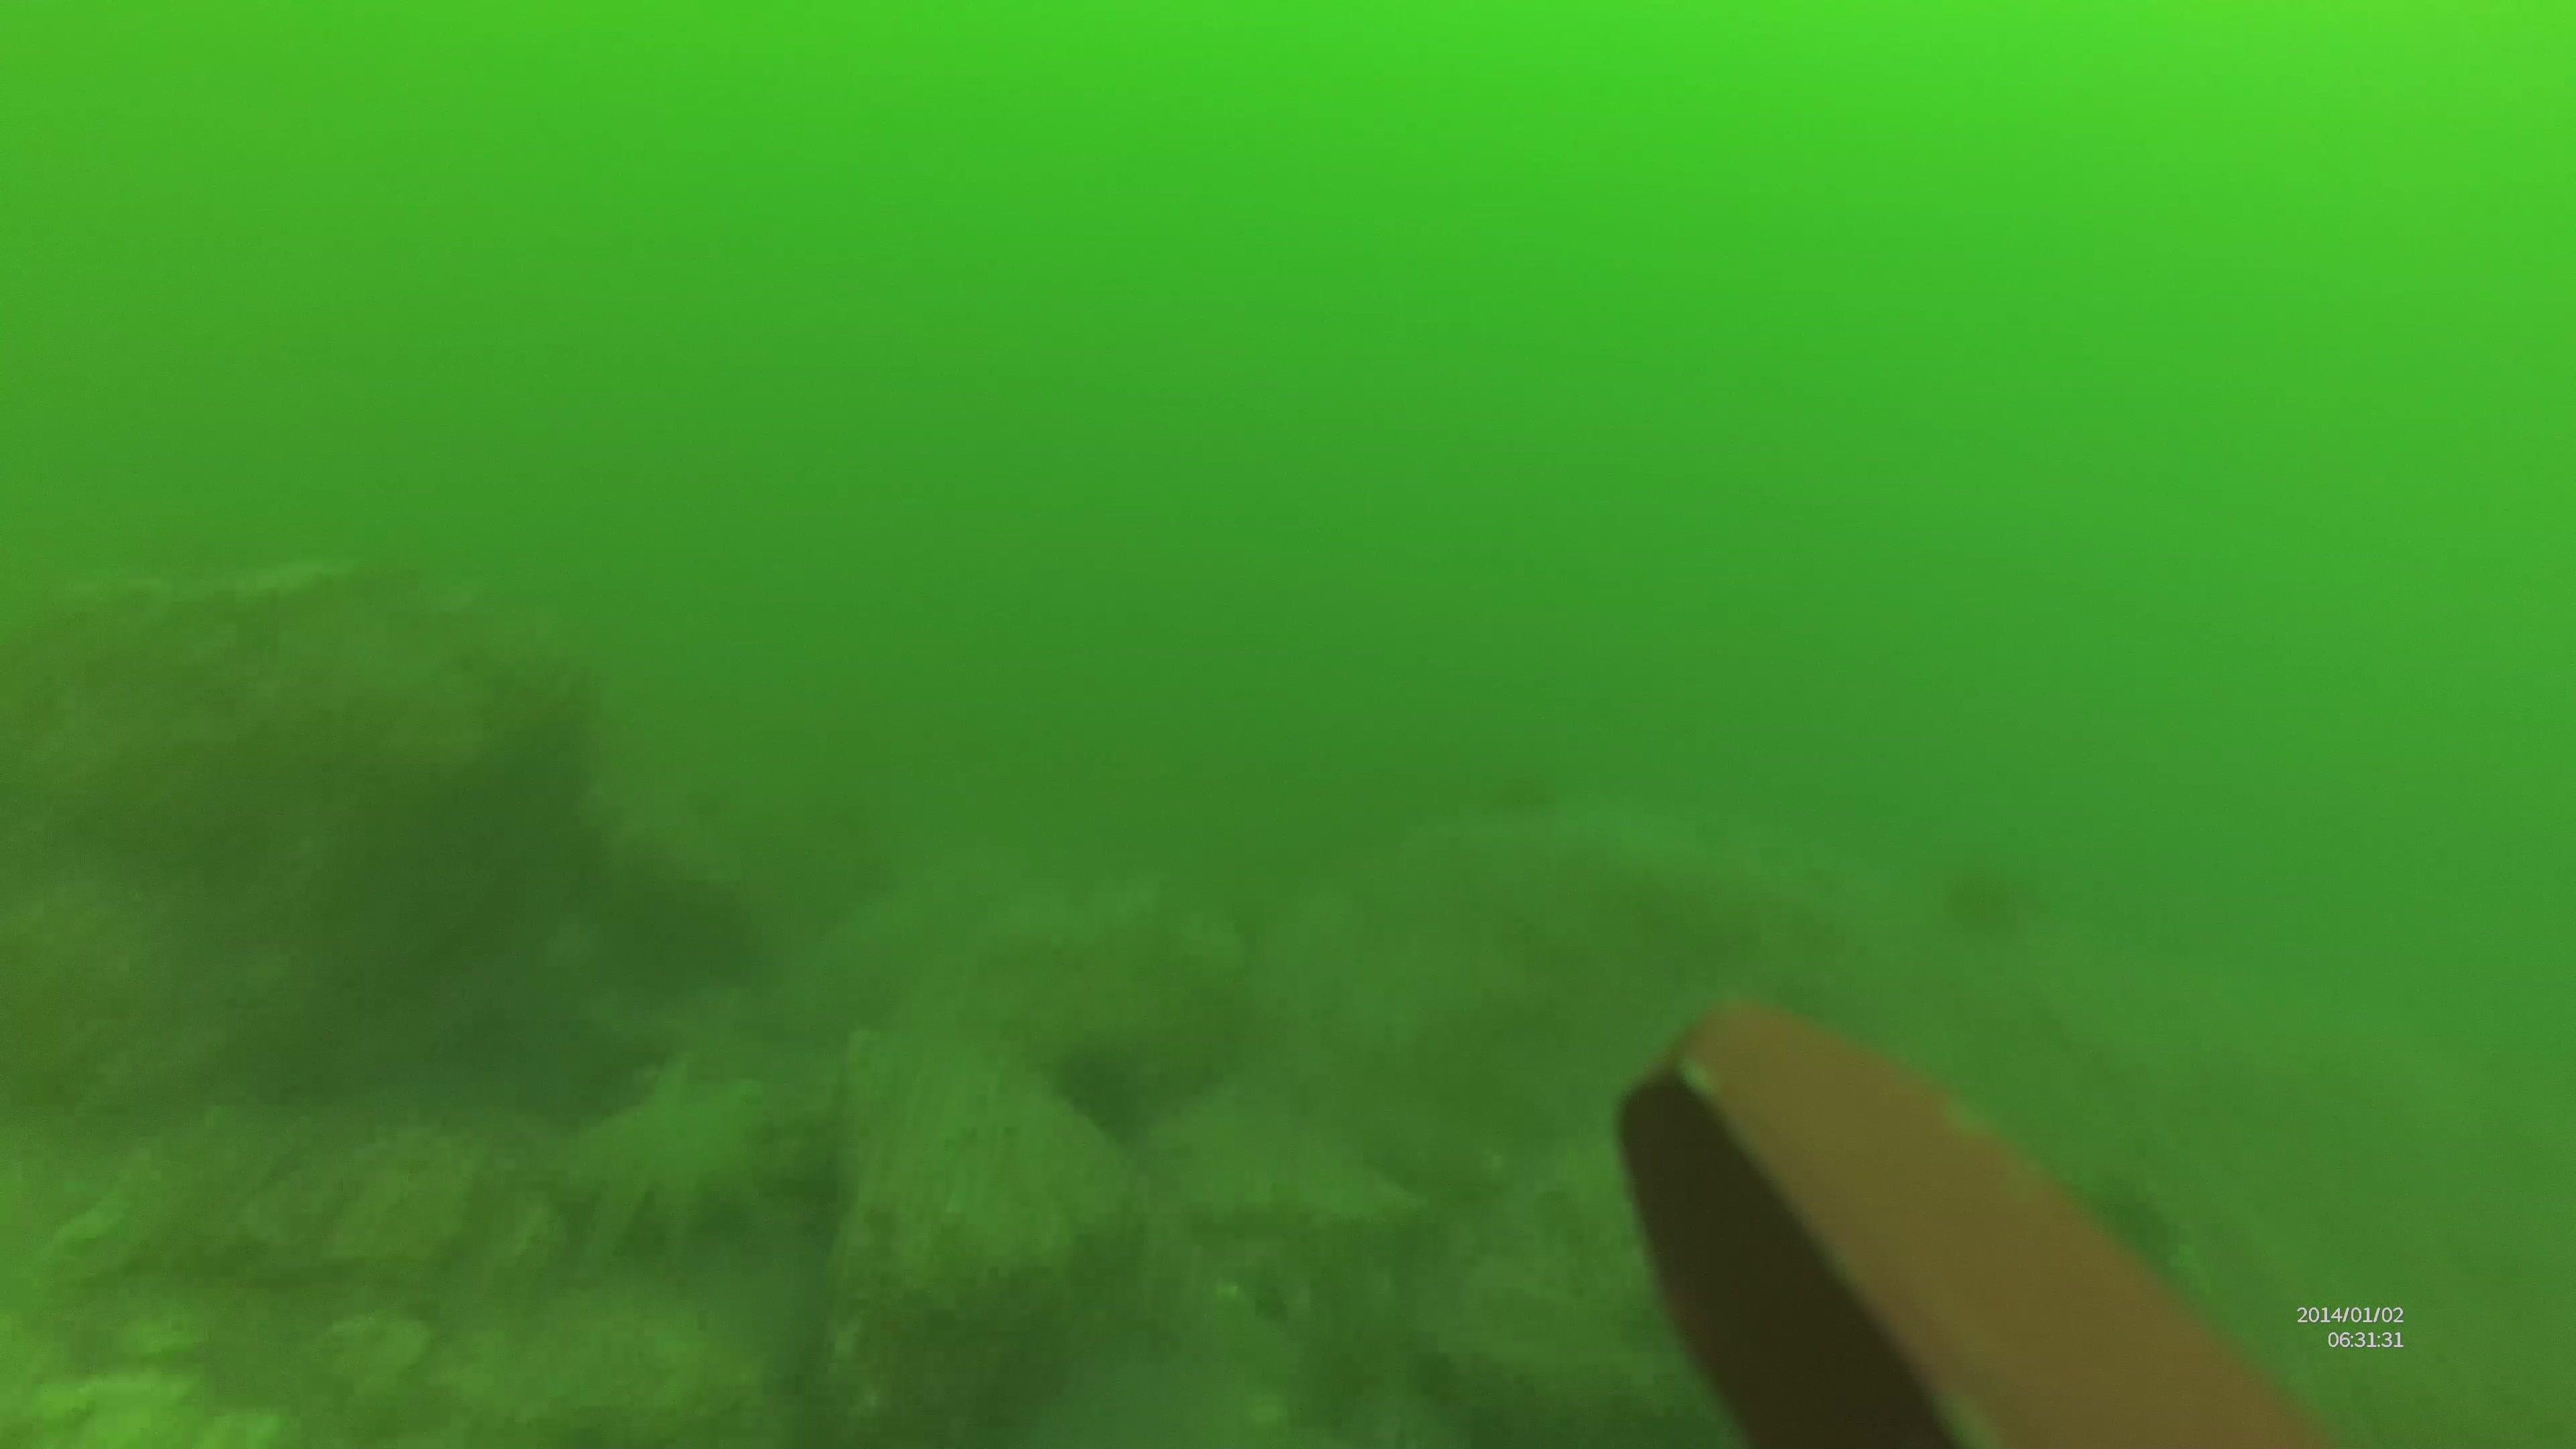echinus: (1054, 1039, 1146, 1134)
